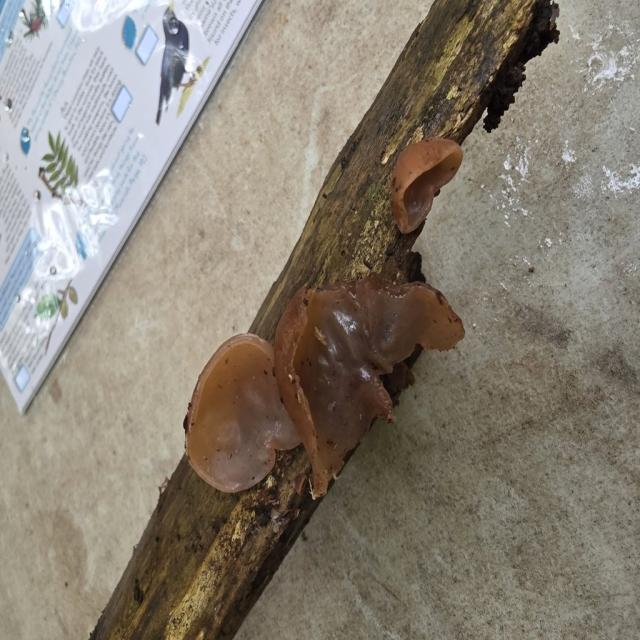Fase Muda: (273, 264, 477, 471), (178, 323, 291, 485), (385, 131, 469, 227)
